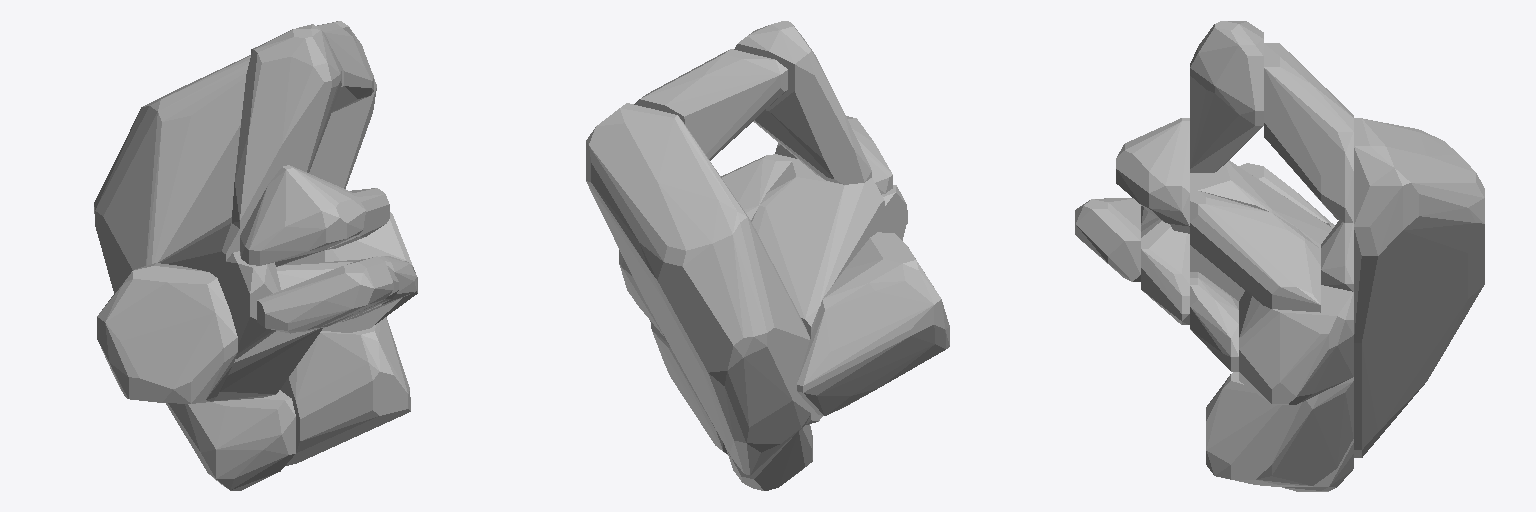
URDF robot description (root):
<robot name="root">
  <link name="link_mount2_convex_piece_0">
    <inertial>
      <origin rpy="0 0 0" xyz="0 0 0"/>
      <mass value="-4.08E-06"/>
      <inertia ixx="-8.66E-10" ixy="-2.90E-10" ixz="-1.07E-09" iyy="-2.83E-09" iyz="-2.07E-10" izz="-2.38E-09"/>
    </inertial>
    <visual>
      <origin rpy="0 0 0" xyz="0 0 0"/>
      <geometry>
        <mesh filename="mount2_convex_piece_0.obj" scale="1.0000E+00"/>
      </geometry>
      <material name="">
        <color rgba="7.50E-01 7.50E-01 7.50E-01 1"/>
      </material>
    </visual>
    <collision>
      <origin rpy="0 0 0" xyz="0 0 0"/>
      <geometry>
        <mesh filename="mount2_convex_piece_0.obj" scale="1.0000E+00"/>
      </geometry>
    </collision>
  </link>
  <link name="link_mount2_convex_piece_1">
    <inertial>
      <origin rpy="0 0 0" xyz="0 0 0"/>
      <mass value="-1.01E-06"/>
      <inertia ixx="-8.25E-10" ixy="2.72E-11" ixz="-1.18E-11" iyy="-3.09E-10" iyz="3.86E-10" izz="-5.34E-10"/>
    </inertial>
    <visual>
      <origin rpy="0 0 0" xyz="0 0 0"/>
      <geometry>
        <mesh filename="mount2_convex_piece_1.obj" scale="1.0000E+00"/>
      </geometry>
      <material name="">
        <color rgba="7.50E-01 7.50E-01 7.50E-01 1"/>
      </material>
    </visual>
    <collision>
      <origin rpy="0 0 0" xyz="0 0 0"/>
      <geometry>
        <mesh filename="mount2_convex_piece_1.obj" scale="1.0000E+00"/>
      </geometry>
    </collision>
  </link>
  <joint name="link_mount2_convex_piece_1_joint" type="fixed">
    <origin rpy="0 0 0" xyz="0 0 0"/>
    <parent link="link_mount2_convex_piece_0"/>
    <child link="link_mount2_convex_piece_1"/>
  </joint>
  <link name="link_mount2_convex_piece_2">
    <inertial>
      <origin rpy="0 0 0" xyz="0 0 0"/>
      <mass value="-1.37E-05"/>
      <inertia ixx="-1.13E-08" ixy="-1.17E-09" ixz="-1.97E-09" iyy="-6.00E-09" iyz="-1.06E-09" izz="-9.71E-09"/>
    </inertial>
    <visual>
      <origin rpy="0 0 0" xyz="0 0 0"/>
      <geometry>
        <mesh filename="mount2_convex_piece_2.obj" scale="1.0000E+00"/>
      </geometry>
      <material name="">
        <color rgba="7.50E-01 7.50E-01 7.50E-01 1"/>
      </material>
    </visual>
    <collision>
      <origin rpy="0 0 0" xyz="0 0 0"/>
      <geometry>
        <mesh filename="mount2_convex_piece_2.obj" scale="1.0000E+00"/>
      </geometry>
    </collision>
  </link>
  <joint name="link_mount2_convex_piece_2_joint" type="fixed">
    <origin rpy="0 0 0" xyz="0 0 0"/>
    <parent link="link_mount2_convex_piece_1"/>
    <child link="link_mount2_convex_piece_2"/>
  </joint>
  <link name="link_mount2_convex_piece_3">
    <inertial>
      <origin rpy="0 0 0" xyz="0 0 0"/>
      <mass value="-7.87E-07"/>
      <inertia ixx="-8.04E-10" ixy="4.66E-11" ixz="-1.86E-11" iyy="-2.57E-11" iyz="8.87E-11" izz="-8.04E-10"/>
    </inertial>
    <visual>
      <origin rpy="0 0 0" xyz="0 0 0"/>
      <geometry>
        <mesh filename="mount2_convex_piece_3.obj" scale="1.0000E+00"/>
      </geometry>
      <material name="">
        <color rgba="7.50E-01 7.50E-01 7.50E-01 1"/>
      </material>
    </visual>
    <collision>
      <origin rpy="0 0 0" xyz="0 0 0"/>
      <geometry>
        <mesh filename="mount2_convex_piece_3.obj" scale="1.0000E+00"/>
      </geometry>
    </collision>
  </link>
  <joint name="link_mount2_convex_piece_3_joint" type="fixed">
    <origin rpy="0 0 0" xyz="0 0 0"/>
    <parent link="link_mount2_convex_piece_2"/>
    <child link="link_mount2_convex_piece_3"/>
  </joint>
  <link name="link_mount2_convex_piece_4">
    <inertial>
      <origin rpy="0 0 0" xyz="0 0 0"/>
      <mass value="-4.25E-07"/>
      <inertia ixx="-2.04E-10" ixy="-9.96E-11" ixz="3.83E-12" iyy="-6.20E-11" iyz="1.28E-11" izz="-2.48E-10"/>
    </inertial>
    <visual>
      <origin rpy="0 0 0" xyz="0 0 0"/>
      <geometry>
        <mesh filename="mount2_convex_piece_4.obj" scale="1.0000E+00"/>
      </geometry>
      <material name="">
        <color rgba="7.50E-01 7.50E-01 7.50E-01 1"/>
      </material>
    </visual>
    <collision>
      <origin rpy="0 0 0" xyz="0 0 0"/>
      <geometry>
        <mesh filename="mount2_convex_piece_4.obj" scale="1.0000E+00"/>
      </geometry>
    </collision>
  </link>
  <joint name="link_mount2_convex_piece_4_joint" type="fixed">
    <origin rpy="0 0 0" xyz="0 0 0"/>
    <parent link="link_mount2_convex_piece_3"/>
    <child link="link_mount2_convex_piece_4"/>
  </joint>
  <link name="link_mount2_convex_piece_5">
    <inertial>
      <origin rpy="0 0 0" xyz="0 0 0"/>
      <mass value="-2.13E-06"/>
      <inertia ixx="-2.83E-09" ixy="1.12E-10" ixz="-2.75E-10" iyy="-2.67E-09" iyz="7.16E-10" izz="-2.19E-10"/>
    </inertial>
    <visual>
      <origin rpy="0 0 0" xyz="0 0 0"/>
      <geometry>
        <mesh filename="mount2_convex_piece_5.obj" scale="1.0000E+00"/>
      </geometry>
      <material name="">
        <color rgba="7.50E-01 7.50E-01 7.50E-01 1"/>
      </material>
    </visual>
    <collision>
      <origin rpy="0 0 0" xyz="0 0 0"/>
      <geometry>
        <mesh filename="mount2_convex_piece_5.obj" scale="1.0000E+00"/>
      </geometry>
    </collision>
  </link>
  <joint name="link_mount2_convex_piece_5_joint" type="fixed">
    <origin rpy="0 0 0" xyz="0 0 0"/>
    <parent link="link_mount2_convex_piece_4"/>
    <child link="link_mount2_convex_piece_5"/>
  </joint>
  <link name="link_mount2_convex_piece_6">
    <inertial>
      <origin rpy="0 0 0" xyz="0 0 0"/>
      <mass value="-1.87E-06"/>
      <inertia ixx="-2.20E-09" ixy="-1.67E-10" ixz="-1.09E-09" iyy="-2.79E-09" iyz="-3.75E-10" izz="-6.42E-10"/>
    </inertial>
    <visual>
      <origin rpy="0 0 0" xyz="0 0 0"/>
      <geometry>
        <mesh filename="mount2_convex_piece_6.obj" scale="1.0000E+00"/>
      </geometry>
      <material name="">
        <color rgba="7.50E-01 7.50E-01 7.50E-01 1"/>
      </material>
    </visual>
    <collision>
      <origin rpy="0 0 0" xyz="0 0 0"/>
      <geometry>
        <mesh filename="mount2_convex_piece_6.obj" scale="1.0000E+00"/>
      </geometry>
    </collision>
  </link>
  <joint name="link_mount2_convex_piece_6_joint" type="fixed">
    <origin rpy="0 0 0" xyz="0 0 0"/>
    <parent link="link_mount2_convex_piece_5"/>
    <child link="link_mount2_convex_piece_6"/>
  </joint>
  <link name="link_mount2_convex_piece_7">
    <inertial>
      <origin rpy="0 0 0" xyz="0 0 0"/>
      <mass value="-9.63E-07"/>
      <inertia ixx="-4.47E-10" ixy="1.43E-10" ixz="-1.05E-11" iyy="-5.52E-11" iyz="-2.76E-11" izz="-4.96E-10"/>
    </inertial>
    <visual>
      <origin rpy="0 0 0" xyz="0 0 0"/>
      <geometry>
        <mesh filename="mount2_convex_piece_7.obj" scale="1.0000E+00"/>
      </geometry>
      <material name="">
        <color rgba="7.50E-01 7.50E-01 7.50E-01 1"/>
      </material>
    </visual>
    <collision>
      <origin rpy="0 0 0" xyz="0 0 0"/>
      <geometry>
        <mesh filename="mount2_convex_piece_7.obj" scale="1.0000E+00"/>
      </geometry>
    </collision>
  </link>
  <joint name="link_mount2_convex_piece_7_joint" type="fixed">
    <origin rpy="0 0 0" xyz="0 0 0"/>
    <parent link="link_mount2_convex_piece_6"/>
    <child link="link_mount2_convex_piece_7"/>
  </joint>
  <link name="link_mount2_convex_piece_8">
    <inertial>
      <origin rpy="0 0 0" xyz="0 0 0"/>
      <mass value="-8.79E-08"/>
      <inertia ixx="-3.81E-11" ixy="5.09E-12" ixz="-2.54E-12" iyy="-7.43E-12" iyz="1.48E-11" izz="-3.10E-11"/>
    </inertial>
    <visual>
      <origin rpy="0 0 0" xyz="0 0 0"/>
      <geometry>
        <mesh filename="mount2_convex_piece_8.obj" scale="1.0000E+00"/>
      </geometry>
      <material name="">
        <color rgba="7.50E-01 7.50E-01 7.50E-01 1"/>
      </material>
    </visual>
    <collision>
      <origin rpy="0 0 0" xyz="0 0 0"/>
      <geometry>
        <mesh filename="mount2_convex_piece_8.obj" scale="1.0000E+00"/>
      </geometry>
    </collision>
  </link>
  <joint name="link_mount2_convex_piece_8_joint" type="fixed">
    <origin rpy="0 0 0" xyz="0 0 0"/>
    <parent link="link_mount2_convex_piece_7"/>
    <child link="link_mount2_convex_piece_8"/>
  </joint>
  <link name="link_mount2_convex_piece_9">
    <inertial>
      <origin rpy="0 0 0" xyz="0 0 0"/>
      <mass value="-1.64E-06"/>
      <inertia ixx="-2.59E-09" ixy="6.99E-11" ixz="-6.43E-11" iyy="-2.56E-09" iyz="3.00E-10" izz="-5.28E-12"/>
    </inertial>
    <visual>
      <origin rpy="0 0 0" xyz="0 0 0"/>
      <geometry>
        <mesh filename="mount2_convex_piece_9.obj" scale="1.0000E+00"/>
      </geometry>
      <material name="">
        <color rgba="7.50E-01 7.50E-01 7.50E-01 1"/>
      </material>
    </visual>
    <collision>
      <origin rpy="0 0 0" xyz="0 0 0"/>
      <geometry>
        <mesh filename="mount2_convex_piece_9.obj" scale="1.0000E+00"/>
      </geometry>
    </collision>
  </link>
  <joint name="link_mount2_convex_piece_9_joint" type="fixed">
    <origin rpy="0 0 0" xyz="0 0 0"/>
    <parent link="link_mount2_convex_piece_8"/>
    <child link="link_mount2_convex_piece_9"/>
  </joint>
  <link name="link_mount2_convex_piece_10">
    <inertial>
      <origin rpy="0 0 0" xyz="0 0 0"/>
      <mass value="-8.35E-06"/>
      <inertia ixx="-1.98E-09" ixy="1.92E-10" ixz="-4.92E-10" iyy="-1.93E-09" iyz="6.09E-11" izz="-6.19E-10"/>
    </inertial>
    <visual>
      <origin rpy="0 0 0" xyz="0 0 0"/>
      <geometry>
        <mesh filename="mount2_convex_piece_10.obj" scale="1.0000E+00"/>
      </geometry>
      <material name="">
        <color rgba="7.50E-01 7.50E-01 7.50E-01 1"/>
      </material>
    </visual>
    <collision>
      <origin rpy="0 0 0" xyz="0 0 0"/>
      <geometry>
        <mesh filename="mount2_convex_piece_10.obj" scale="1.0000E+00"/>
      </geometry>
    </collision>
  </link>
  <joint name="link_mount2_convex_piece_10_joint" type="fixed">
    <origin rpy="0 0 0" xyz="0 0 0"/>
    <parent link="link_mount2_convex_piece_9"/>
    <child link="link_mount2_convex_piece_10"/>
  </joint>
  <link name="link_mount2_convex_piece_11">
    <inertial>
      <origin rpy="0 0 0" xyz="0 0 0"/>
      <mass value="-3.75E-06"/>
      <inertia ixx="-3.39E-09" ixy="1.95E-10" ixz="1.75E-09" iyy="-4.48E-09" iyz="-1.16E-10" izz="-1.12E-09"/>
    </inertial>
    <visual>
      <origin rpy="0 0 0" xyz="0 0 0"/>
      <geometry>
        <mesh filename="mount2_convex_piece_11.obj" scale="1.0000E+00"/>
      </geometry>
      <material name="">
        <color rgba="7.50E-01 7.50E-01 7.50E-01 1"/>
      </material>
    </visual>
    <collision>
      <origin rpy="0 0 0" xyz="0 0 0"/>
      <geometry>
        <mesh filename="mount2_convex_piece_11.obj" scale="1.0000E+00"/>
      </geometry>
    </collision>
  </link>
  <joint name="link_mount2_convex_piece_11_joint" type="fixed">
    <origin rpy="0 0 0" xyz="0 0 0"/>
    <parent link="link_mount2_convex_piece_10"/>
    <child link="link_mount2_convex_piece_11"/>
  </joint>
  <link name="link_mount2_convex_piece_12">
    <inertial>
      <origin rpy="0 0 0" xyz="0 0 0"/>
      <mass value="-6.61E-07"/>
      <inertia ixx="-1.15E-10" ixy="1.68E-10" ixz="6.32E-11" iyy="-2.35E-10" iyz="-6.61E-11" izz="-2.93E-10"/>
    </inertial>
    <visual>
      <origin rpy="0 0 0" xyz="0 0 0"/>
      <geometry>
        <mesh filename="mount2_convex_piece_12.obj" scale="1.0000E+00"/>
      </geometry>
      <material name="">
        <color rgba="7.50E-01 7.50E-01 7.50E-01 1"/>
      </material>
    </visual>
    <collision>
      <origin rpy="0 0 0" xyz="0 0 0"/>
      <geometry>
        <mesh filename="mount2_convex_piece_12.obj" scale="1.0000E+00"/>
      </geometry>
    </collision>
  </link>
  <joint name="link_mount2_convex_piece_12_joint" type="fixed">
    <origin rpy="0 0 0" xyz="0 0 0"/>
    <parent link="link_mount2_convex_piece_11"/>
    <child link="link_mount2_convex_piece_12"/>
  </joint>
  <link name="link_mount2_convex_piece_13">
    <inertial>
      <origin rpy="0 0 0" xyz="0 0 0"/>
      <mass value="-3.74E-06"/>
      <inertia ixx="-3.26E-10" ixy="-8.60E-11" ixz="5.47E-10" iyy="-1.96E-09" iyz="4.30E-12" izz="-1.65E-09"/>
    </inertial>
    <visual>
      <origin rpy="0 0 0" xyz="0 0 0"/>
      <geometry>
        <mesh filename="mount2_convex_piece_13.obj" scale="1.0000E+00"/>
      </geometry>
      <material name="">
        <color rgba="7.50E-01 7.50E-01 7.50E-01 1"/>
      </material>
    </visual>
    <collision>
      <origin rpy="0 0 0" xyz="0 0 0"/>
      <geometry>
        <mesh filename="mount2_convex_piece_13.obj" scale="1.0000E+00"/>
      </geometry>
    </collision>
  </link>
  <joint name="link_mount2_convex_piece_13_joint" type="fixed">
    <origin rpy="0 0 0" xyz="0 0 0"/>
    <parent link="link_mount2_convex_piece_12"/>
    <child link="link_mount2_convex_piece_13"/>
  </joint>
  <link name="link_mount2_convex_piece_14">
    <inertial>
      <origin rpy="0 0 0" xyz="0 0 0"/>
      <mass value="-1.31E-06"/>
      <inertia ixx="-8.94E-11" ixy="1.23E-10" ixz="-1.52E-10" iyy="-4.03E-10" iyz="3.24E-11" izz="-3.68E-10"/>
    </inertial>
    <visual>
      <origin rpy="0 0 0" xyz="0 0 0"/>
      <geometry>
        <mesh filename="mount2_convex_piece_14.obj" scale="1.0000E+00"/>
      </geometry>
      <material name="">
        <color rgba="7.50E-01 7.50E-01 7.50E-01 1"/>
      </material>
    </visual>
    <collision>
      <origin rpy="0 0 0" xyz="0 0 0"/>
      <geometry>
        <mesh filename="mount2_convex_piece_14.obj" scale="1.0000E+00"/>
      </geometry>
    </collision>
  </link>
  <joint name="link_mount2_convex_piece_14_joint" type="fixed">
    <origin rpy="0 0 0" xyz="0 0 0"/>
    <parent link="link_mount2_convex_piece_13"/>
    <child link="link_mount2_convex_piece_14"/>
  </joint>
  <link name="link_mount2_convex_piece_15">
    <inertial>
      <origin rpy="0 0 0" xyz="0 0 0"/>
      <mass value="-2.24E-07"/>
      <inertia ixx="-2.83E-11" ixy="-2.94E-11" ixz="-2.31E-11" iyy="-5.16E-11" iyz="-2.01E-11" izz="-6.39E-11"/>
    </inertial>
    <visual>
      <origin rpy="0 0 0" xyz="0 0 0"/>
      <geometry>
        <mesh filename="mount2_convex_piece_15.obj" scale="1.0000E+00"/>
      </geometry>
      <material name="">
        <color rgba="7.50E-01 7.50E-01 7.50E-01 1"/>
      </material>
    </visual>
    <collision>
      <origin rpy="0 0 0" xyz="0 0 0"/>
      <geometry>
        <mesh filename="mount2_convex_piece_15.obj" scale="1.0000E+00"/>
      </geometry>
    </collision>
  </link>
  <joint name="link_mount2_convex_piece_15_joint" type="fixed">
    <origin rpy="0 0 0" xyz="0 0 0"/>
    <parent link="link_mount2_convex_piece_14"/>
    <child link="link_mount2_convex_piece_15"/>
  </joint>
</robot>

--- Facts derived from the render (not from the file) ---
Views: 3 orthographic renders of the robot side by side, from view 1: azimuth 30°, elevation 25°; view 2: azimuth 150°, elevation 25°; view 3: azimuth 270°, elevation 25°.
Model root with 16 links and 15 joints (15 fixed), rooted at link_mount2_convex_piece_0, posed every joint at zero.
Links seen in each view (by area): view 1: link_mount2_convex_piece_2, link_mount2_convex_piece_0, link_mount2_convex_piece_5, link_mount2_convex_piece_11, link_mount2_convex_piece_9, link_mount2_convex_piece_1, link_mount2_convex_piece_10, link_mount2_convex_piece_3, link_mount2_convex_piece_4, link_mount2_convex_piece_13, link_mount2_convex_piece_6, link_mount2_convex_piece_7 (+2 smaller); view 2: link_mount2_convex_piece_2, link_mount2_convex_piece_0, link_mount2_convex_piece_10, link_mount2_convex_piece_5, link_mount2_convex_piece_6, link_mount2_convex_piece_9, link_mount2_convex_piece_14, link_mount2_convex_piece_11, link_mount2_convex_piece_1, link_mount2_convex_piece_4, link_mount2_convex_piece_13; view 3: link_mount2_convex_piece_2, link_mount2_convex_piece_11, link_mount2_convex_piece_13, link_mount2_convex_piece_14, link_mount2_convex_piece_6, link_mount2_convex_piece_5, link_mount2_convex_piece_1, link_mount2_convex_piece_10, link_mount2_convex_piece_7, link_mount2_convex_piece_3, link_mount2_convex_piece_12, link_mount2_convex_piece_15 (+2 smaller).
Link boxes in pixels (x1,y1,x2,y2): link_mount2_convex_piece_2: (94,21,376,292); link_mount2_convex_piece_0: (97,263,237,403); link_mount2_convex_piece_5: (232,24,341,228); link_mount2_convex_piece_11: (280,317,410,465); link_mount2_convex_piece_9: (166,390,295,490); link_mount2_convex_piece_1: (240,165,365,265); link_mount2_convex_piece_10: (158,217,324,401); link_mount2_convex_piece_3: (257,256,393,333); link_mount2_convex_piece_4: (226,251,280,358); link_mount2_convex_piece_13: (322,212,417,332); link_mount2_convex_piece_6: (251,23,373,112); link_mount2_convex_piece_7: (276,259,398,331); link_mount2_convex_piece_2: (586,103,810,475); link_mount2_convex_piece_0: (797,232,949,415); link_mount2_convex_piece_10: (752,159,884,424); link_mount2_convex_piece_5: (734,21,871,184); link_mount2_convex_piece_6: (634,49,787,160); link_mount2_convex_piece_9: (725,424,812,490); link_mount2_convex_piece_14: (721,154,794,221); link_mount2_convex_piece_11: (650,321,727,454); link_mount2_convex_piece_1: (775,116,892,194); link_mount2_convex_piece_4: (882,185,906,240); link_mount2_convex_piece_13: (619,250,664,336); link_mount2_convex_piece_2: (1354,118,1484,457); link_mount2_convex_piece_11: (1206,372,1353,486); link_mount2_convex_piece_13: (1239,285,1353,404); link_mount2_convex_piece_14: (1190,191,1320,312); link_mount2_convex_piece_6: (1264,43,1353,222); link_mount2_convex_piece_5: (1190,21,1263,172); link_mount2_convex_piece_1: (1116,118,1189,226); link_mount2_convex_piece_10: (1190,160,1332,300); link_mount2_convex_piece_7: (1141,218,1189,324); link_mount2_convex_piece_3: (1075,198,1140,281); link_mount2_convex_piece_12: (1190,272,1238,371); link_mount2_convex_piece_15: (1321,221,1353,291).
Bounding box of the posed robot: 0.0737 × 0.0801 × 0.1025 m (x, y, z).
16 mesh visuals loaded from 16 distinct referenced files (16 OBJ).